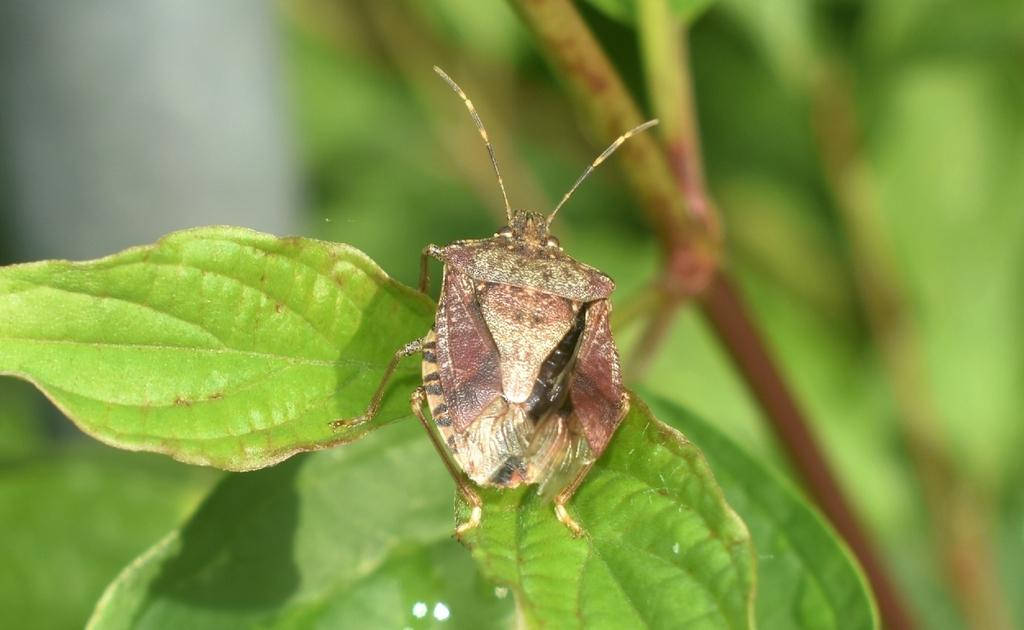stink_bugs: (289, 28, 751, 579)
